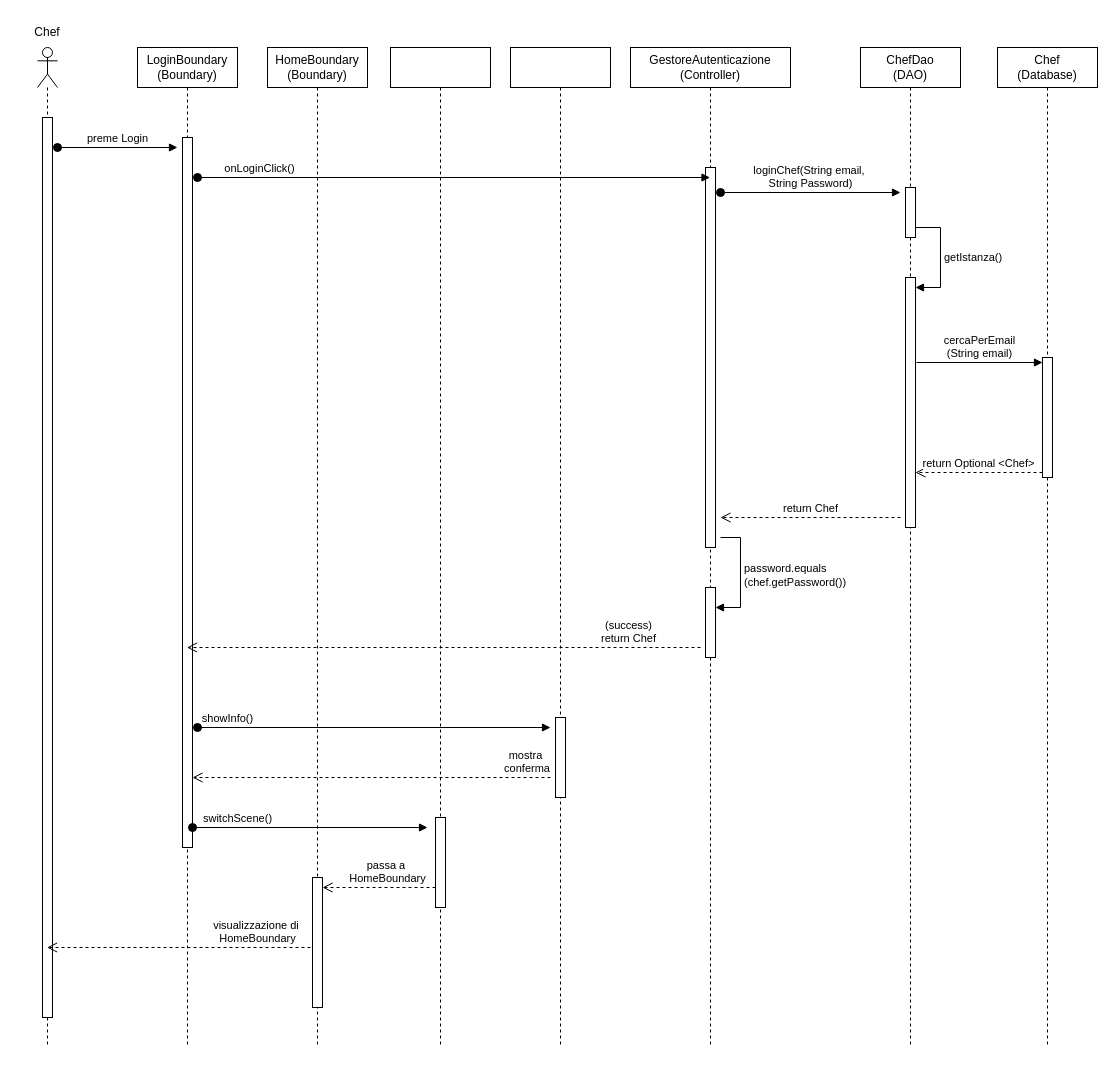
The diagram is 1115 pixels wide and 1065 high, and some of its shapes have lost their labels. Here are the shapes that lost their labels. From the top down, the box of each, then its label:
(390, 46, 490, 1048): NavigatoreScene (Utility)
(510, 46, 610, 1048): InterfacciaFx (Utility)
